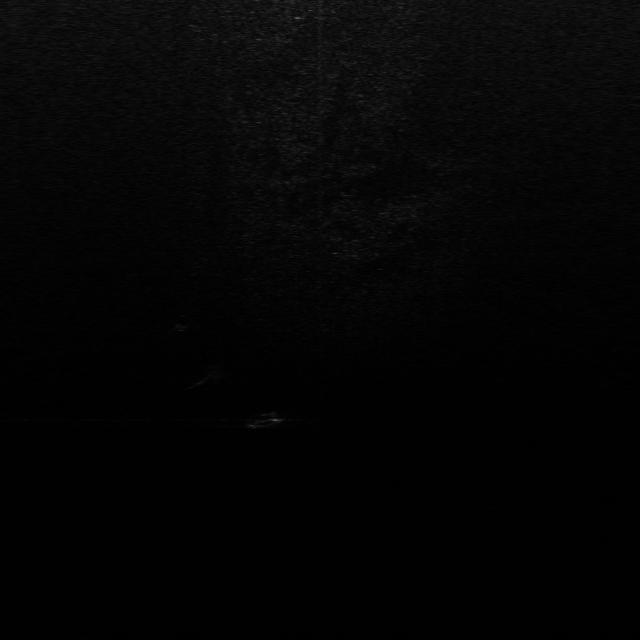ball: (200, 362, 230, 380)
circle cage: (170, 314, 196, 332)
tyre: (247, 407, 281, 428)
